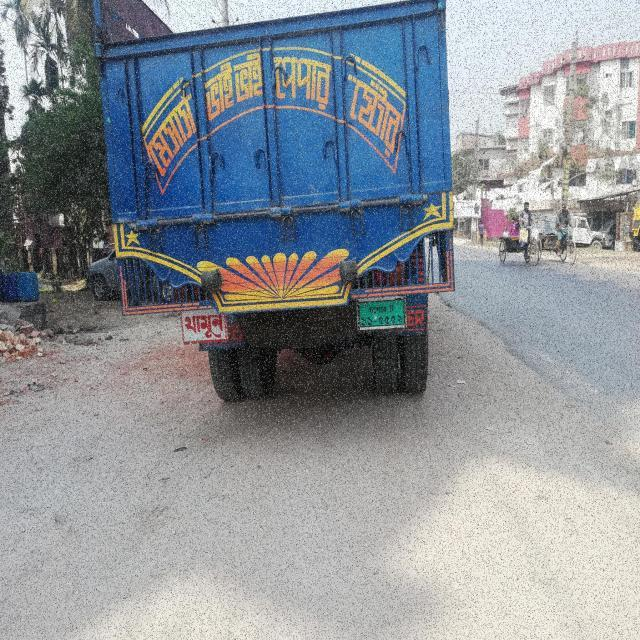numberplate: (355, 297, 406, 331)
